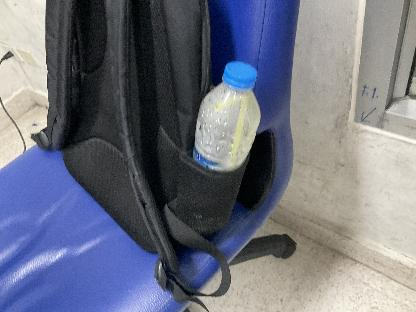Plastic Bottle: (192, 60, 264, 174)
